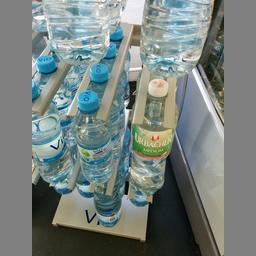water: (138, 0, 212, 78), (130, 78, 177, 196), (40, 0, 109, 64), (31, 78, 70, 185), (70, 89, 113, 184)
